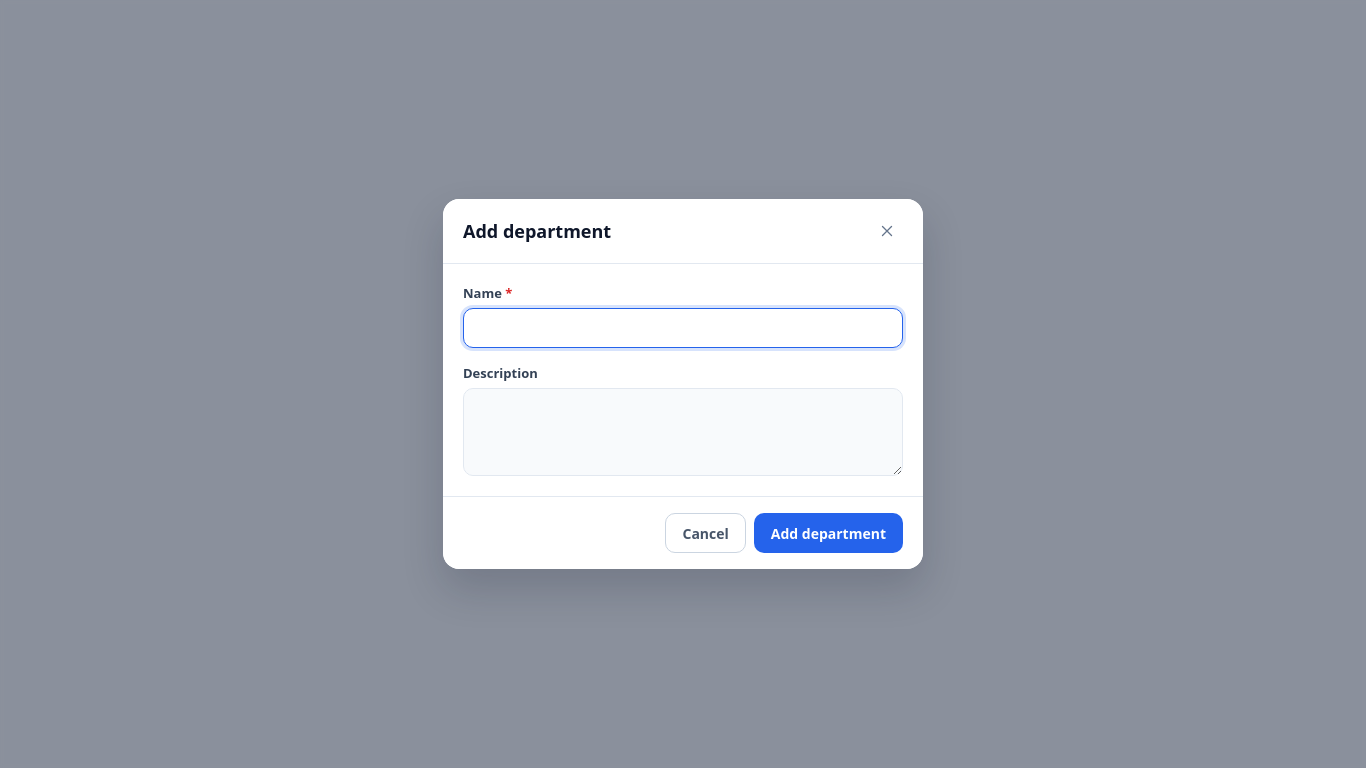
it: DepartmentFormDialogComponent › keeps the dialog open and shows the server error for a duplicate name
This screenshot has width=1366, height=768.
Type "Finance" into the field with id "department-name" at (683, 328), box [463,308,903,348]
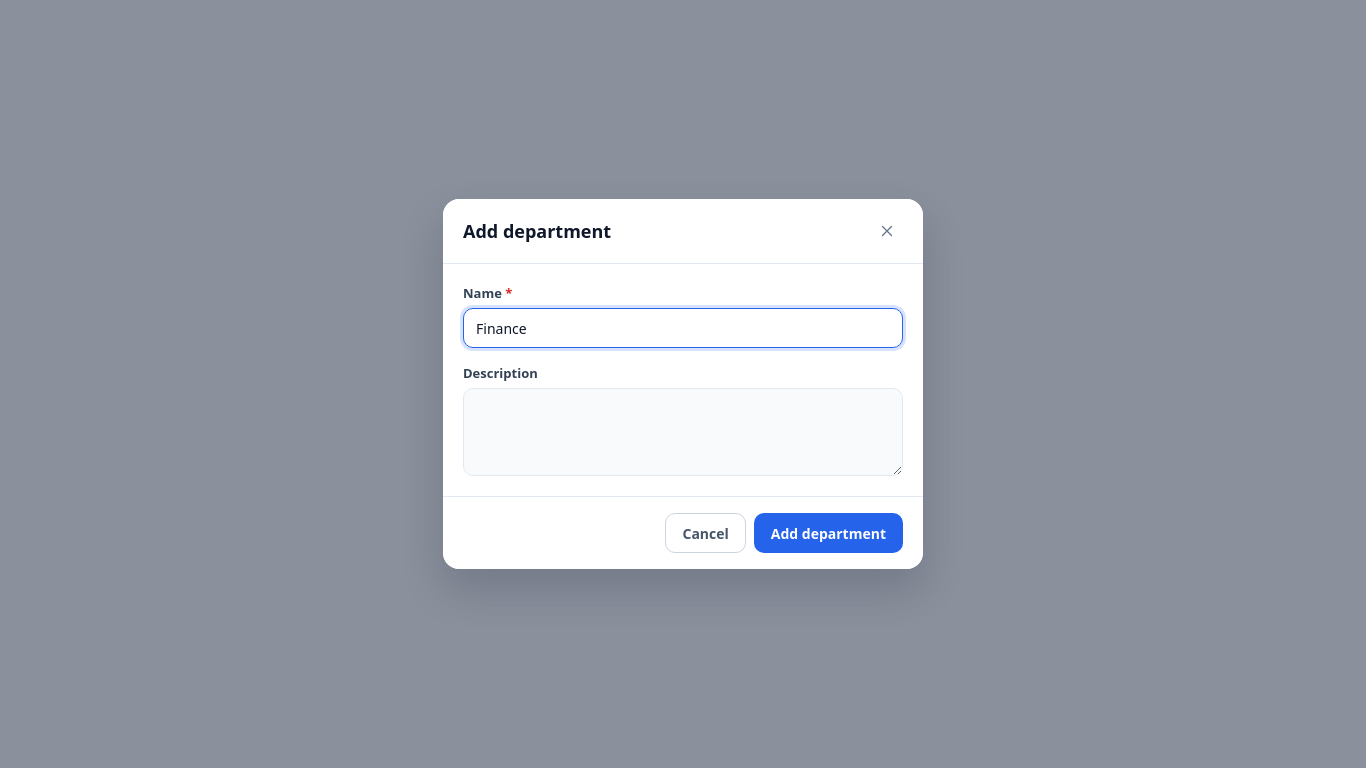
Click the submit button at (828, 533), box [754,513,903,553]
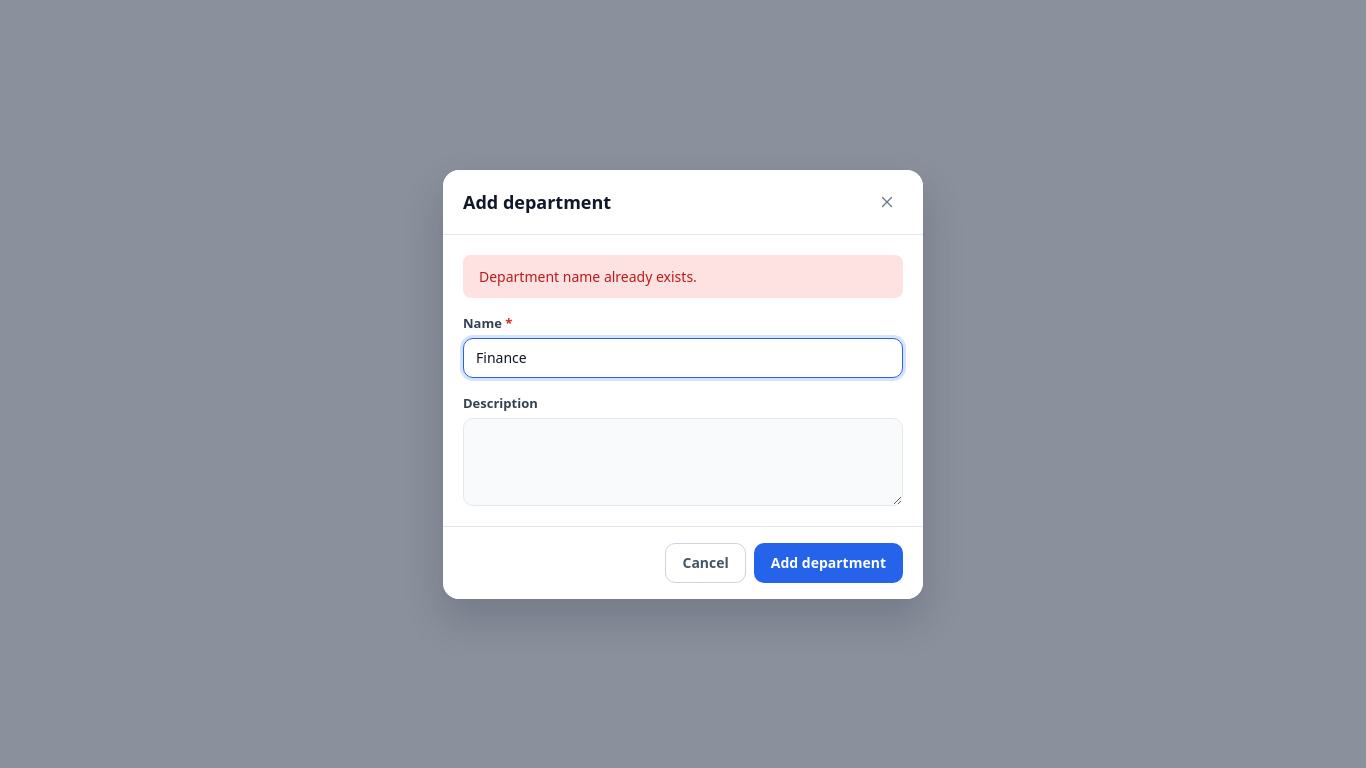
Expected: the message with class "tf-alert" reads "Department name already exists.", [479,266,697,286]
